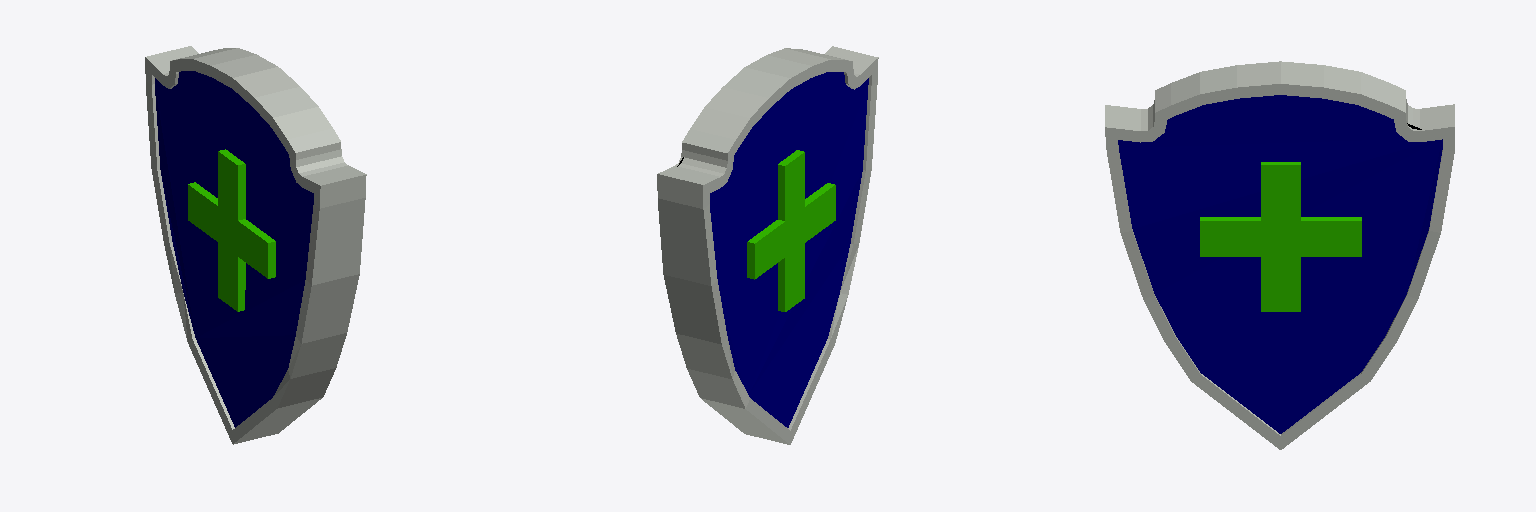
3 renders of one model, left to right at view 1: azimuth 30°, elevation 25°; view 2: azimuth 150°, elevation 25°; view 3: azimuth 270°, elevation 25°, orthographic.
Parts seen in each view (by area): view 1: Cube.001; view 2: Cube.001; view 3: Cube.001.
Boxes of the visible parts, x1=… form: Cube.001: x1=145, y1=46, x2=366, y2=444; Cube.001: x1=657, y1=46, x2=878, y2=444; Cube.001: x1=1105, y1=61, x2=1454, y2=449.
Bounding box in the file's own units: 0.362 × 2.29 × 1.98.
Materials: 1 (1 with a texture image).